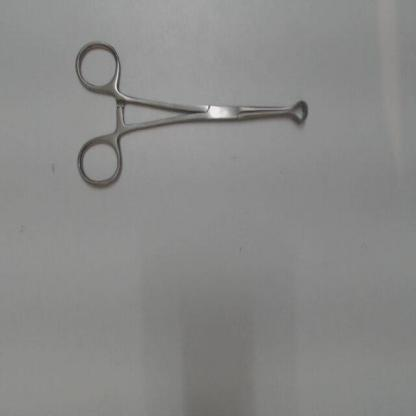Babcock Tissue Forceps: (70, 37, 310, 194)
